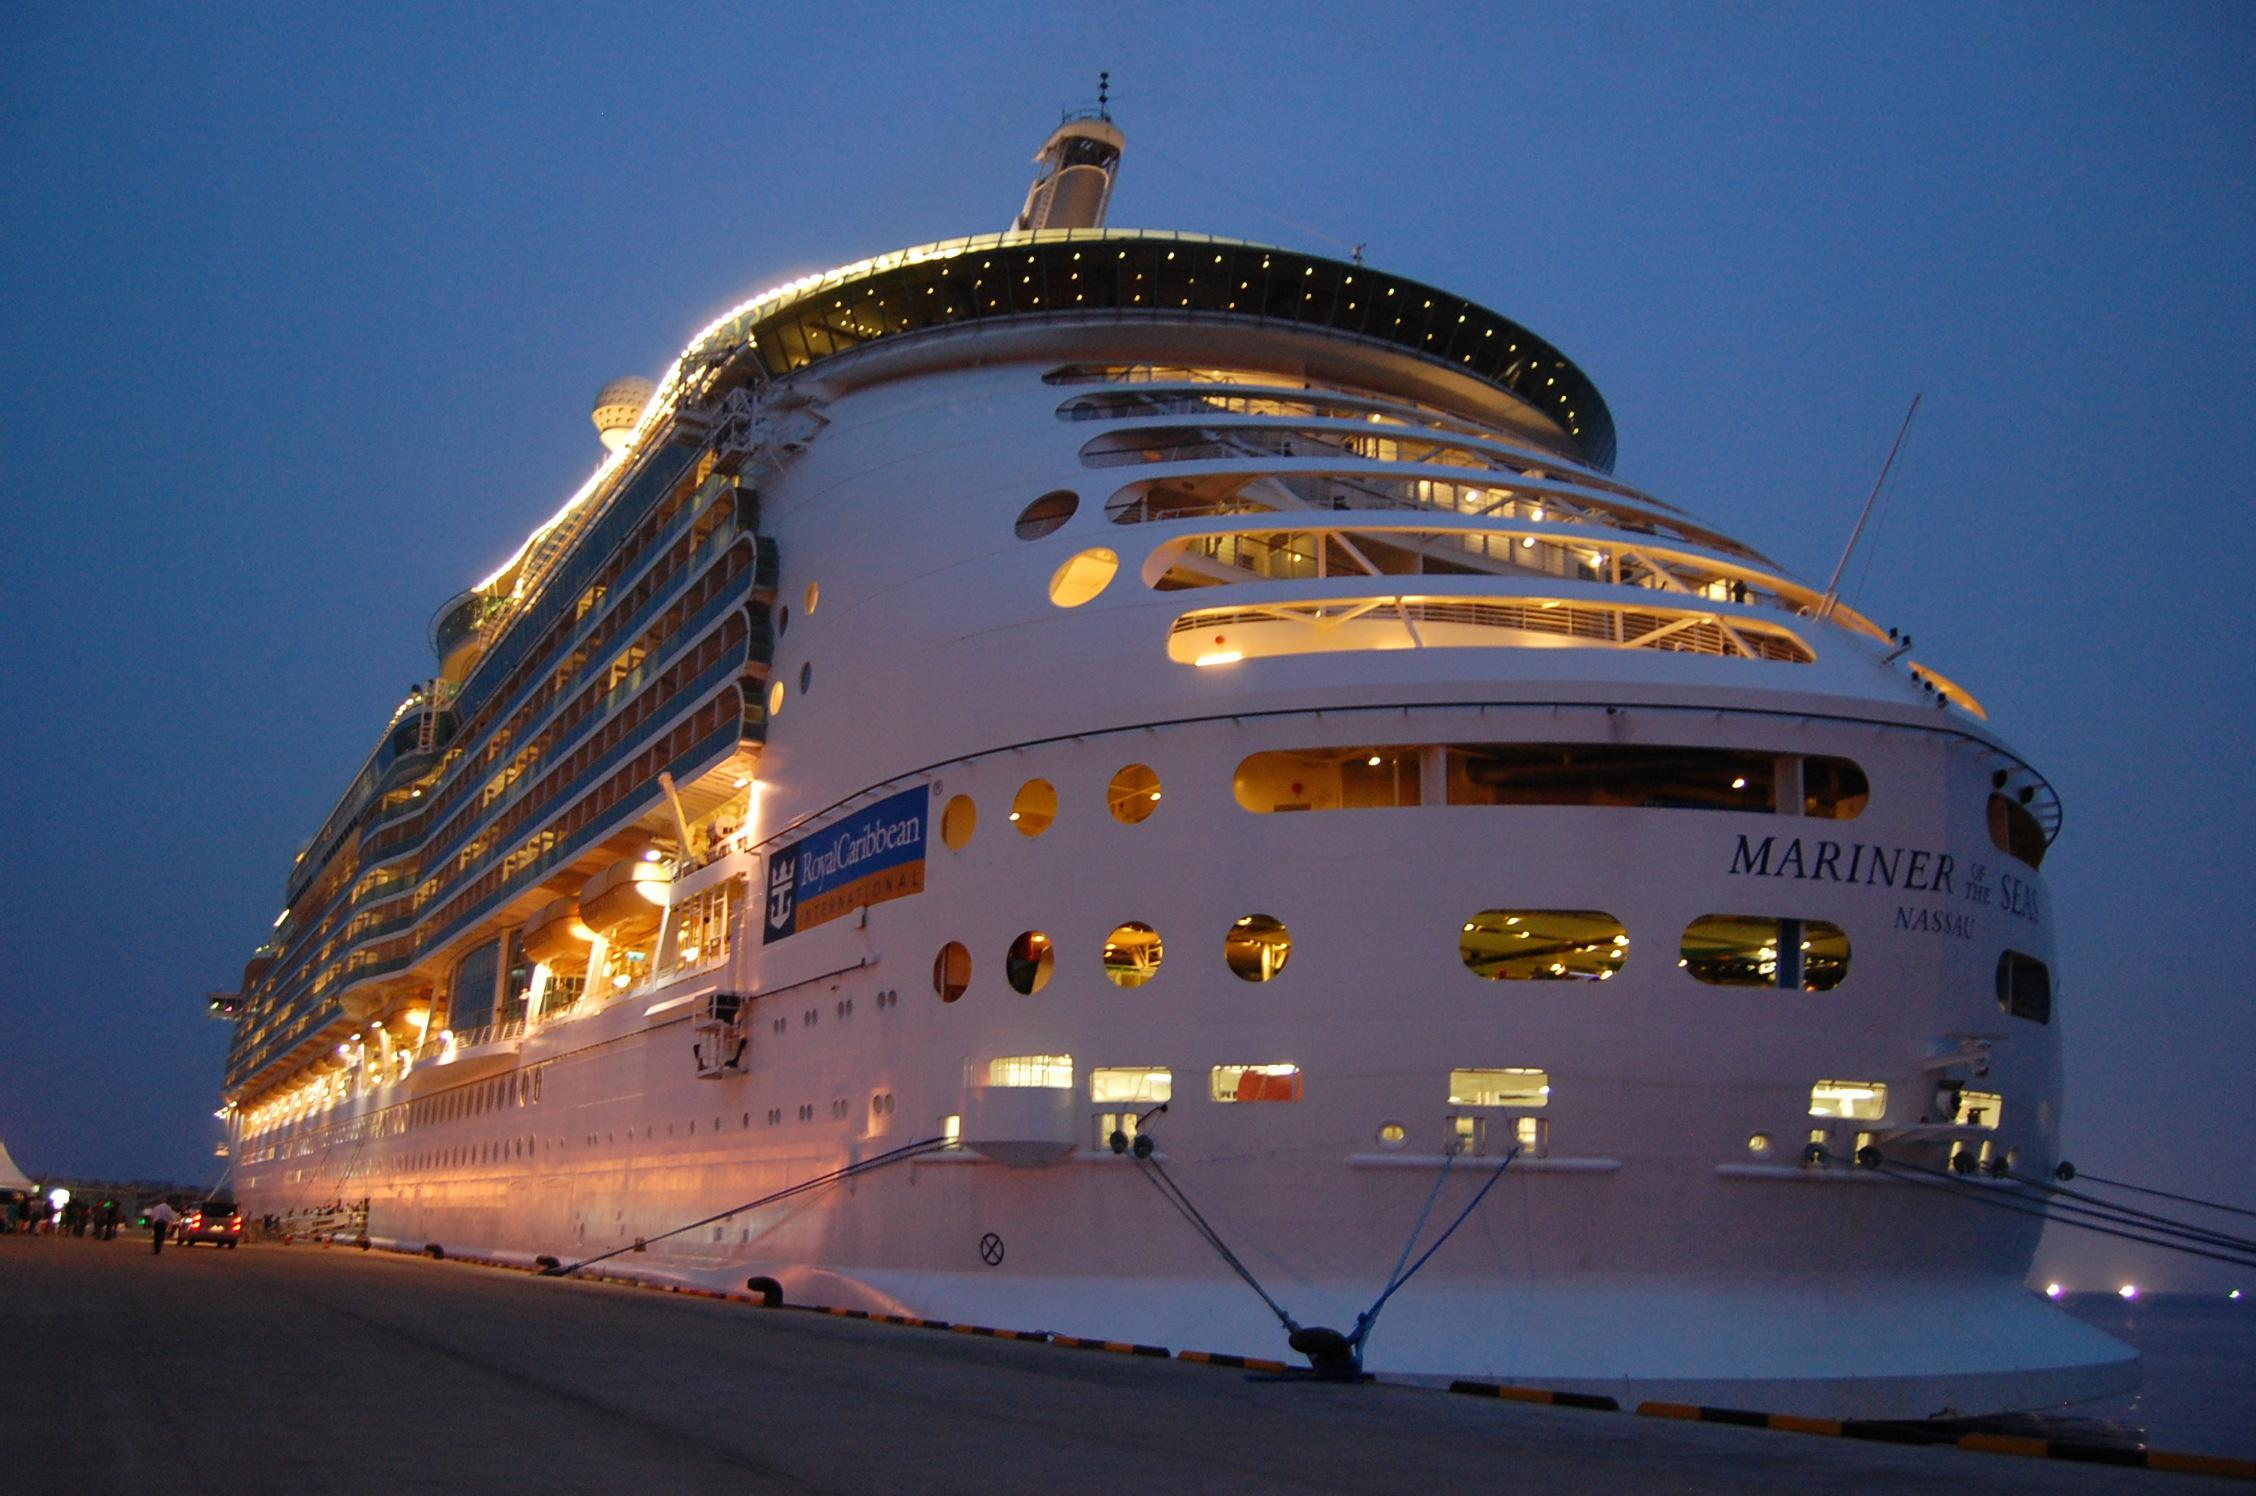youlun: (199, 83, 2157, 1366)
